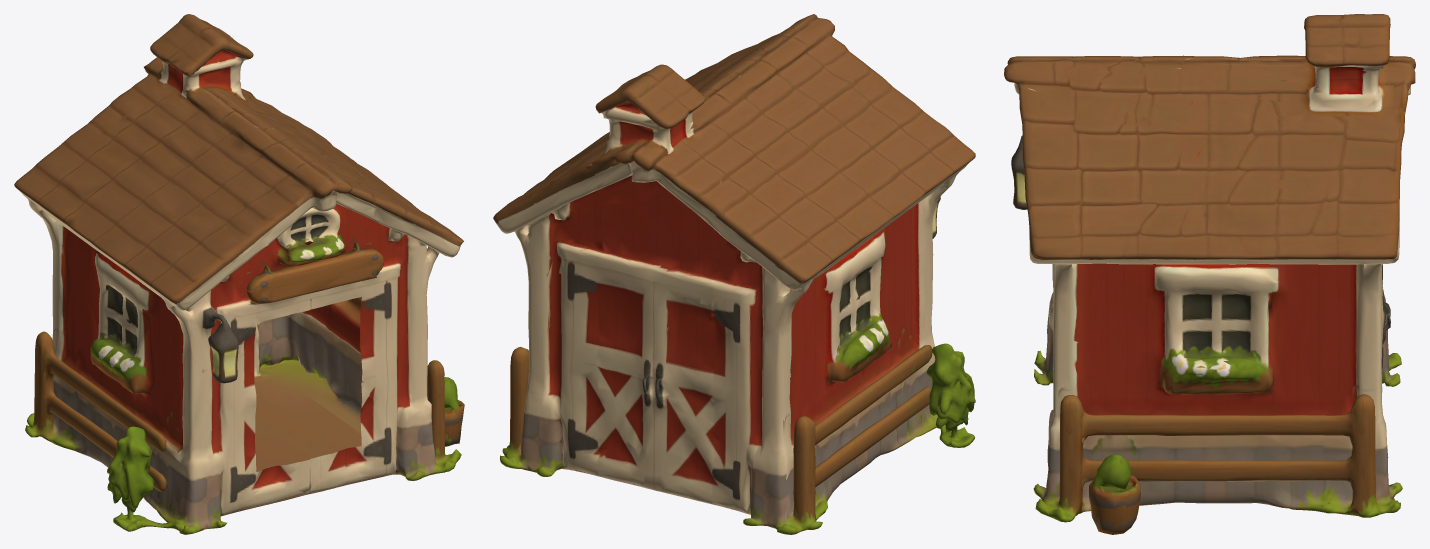
The picture shows the model from 3 angles, left to right: view 1: azimuth 30°, elevation 25°; view 2: azimuth 150°, elevation 25°; view 3: azimuth 270°, elevation 25°; orthographic projection. The views are drawn at different scales.
Visible parts, largest first — view 1: stable-lv2; view 2: stable-lv2; view 3: stable-lv2.
Part boxes in pixels (x1,y1,x2,y2): stable-lv2: (14,14,464,534); stable-lv2: (493,14,975,534); stable-lv2: (1004,14,1415,534).
Bounding box in the file's own units: 3.57 × 3.6 × 3.09.
Materials: 1 (1 with a texture image).
